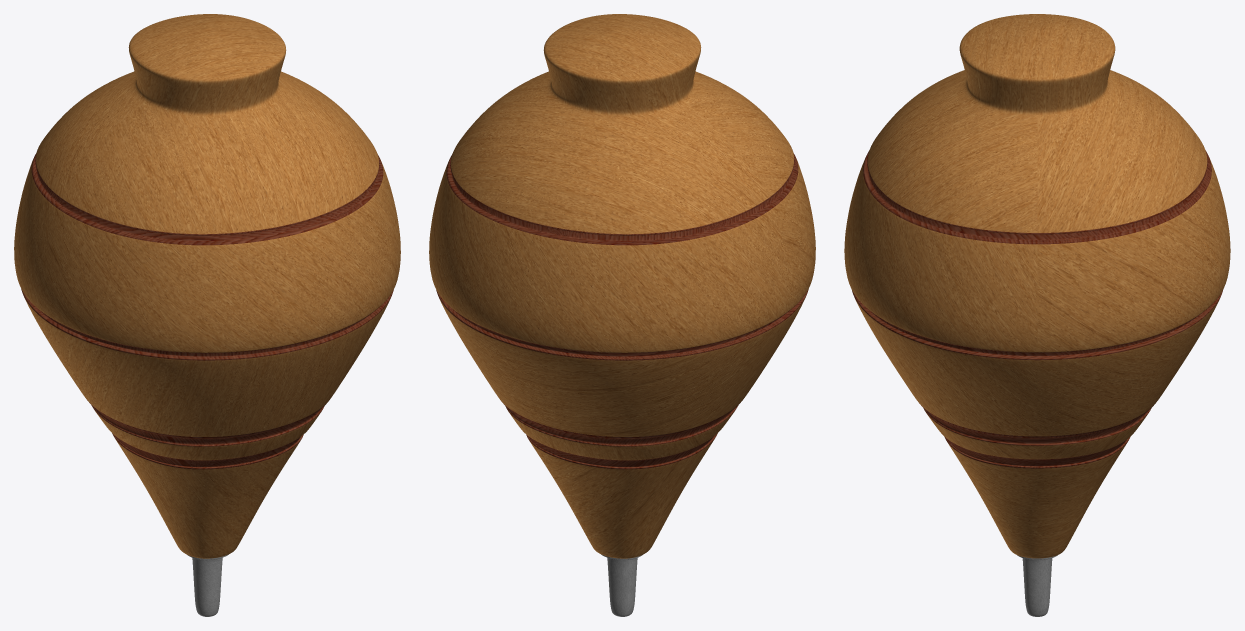
Rendered from trompo.glb.
3 renders of one model, left to right at view 1: azimuth 30°, elevation 25°; view 2: azimuth 150°, elevation 25°; view 3: azimuth 270°, elevation 25°, orthographic.
Visible parts, largest first — view 1: Cube (×3); view 2: Cube (×3); view 3: Cube (×3).
Part boxes in pixels (x1,y1,x2,y2): Cube (×3): (14,14,400,616); Cube (×3): (429,14,815,616); Cube (×3): (844,14,1230,616).
Size of the model in its own units: 3.44 by 5.72 by 3.44.
Materials: 3 (3 with a texture image).
